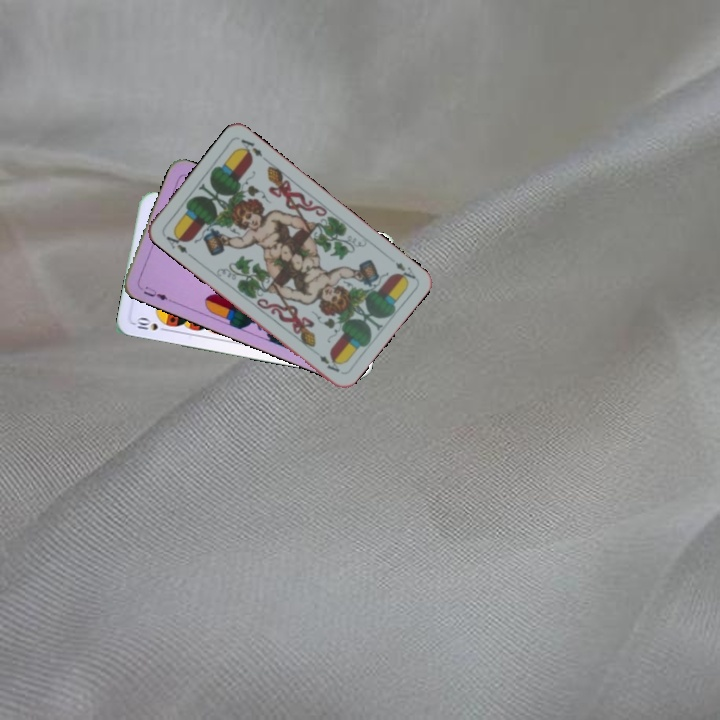EA: (162, 228, 195, 259), (391, 258, 418, 286)
EU: (139, 282, 174, 305)
S10: (131, 314, 171, 334)
